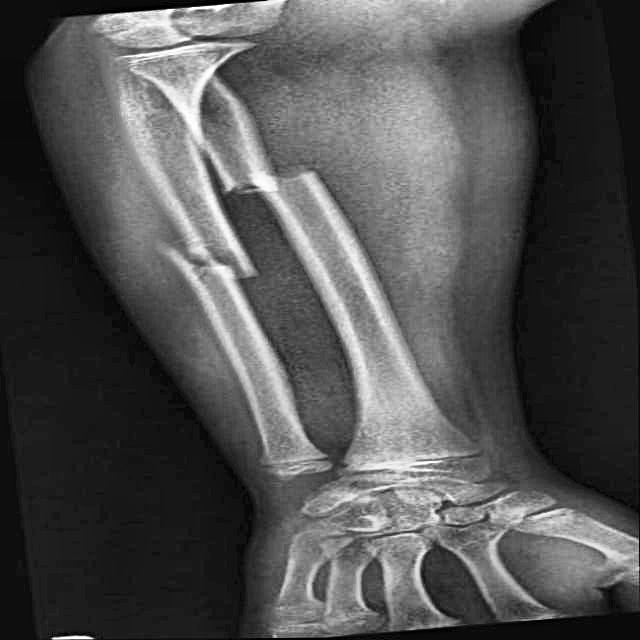Oblique Displaced: (127, 218, 287, 305)
Transverse: (194, 150, 354, 208)
